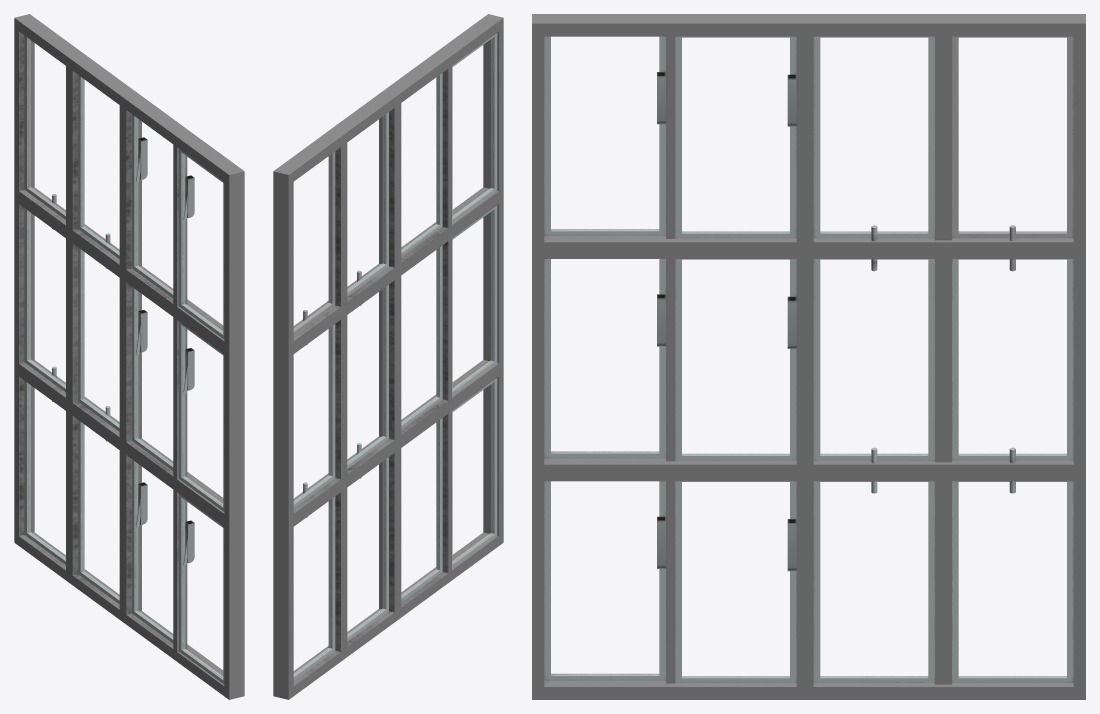
Rendered from ClassCWindow.glb.
3 views of the same model, side by side, from view 1: azimuth 30°, elevation 25°; view 2: azimuth 150°, elevation 25°; view 3: azimuth 270°, elevation 25° (orthographic). The views are drawn at different scales.
Visible parts, largest first — view 1: ClassCRoom_Window; view 2: ClassCRoom_Window; view 3: ClassCRoom_Window.
Boxes of the visible parts, <box> form: ClassCRoom_Window: <box>14,14,244,699</box>; ClassCRoom_Window: <box>273,14,503,699</box>; ClassCRoom_Window: <box>532,14,1085,699</box>.
Size of the model in its own units: 0.1068 by 3 by 2.23.
1 material, 1 textured.
